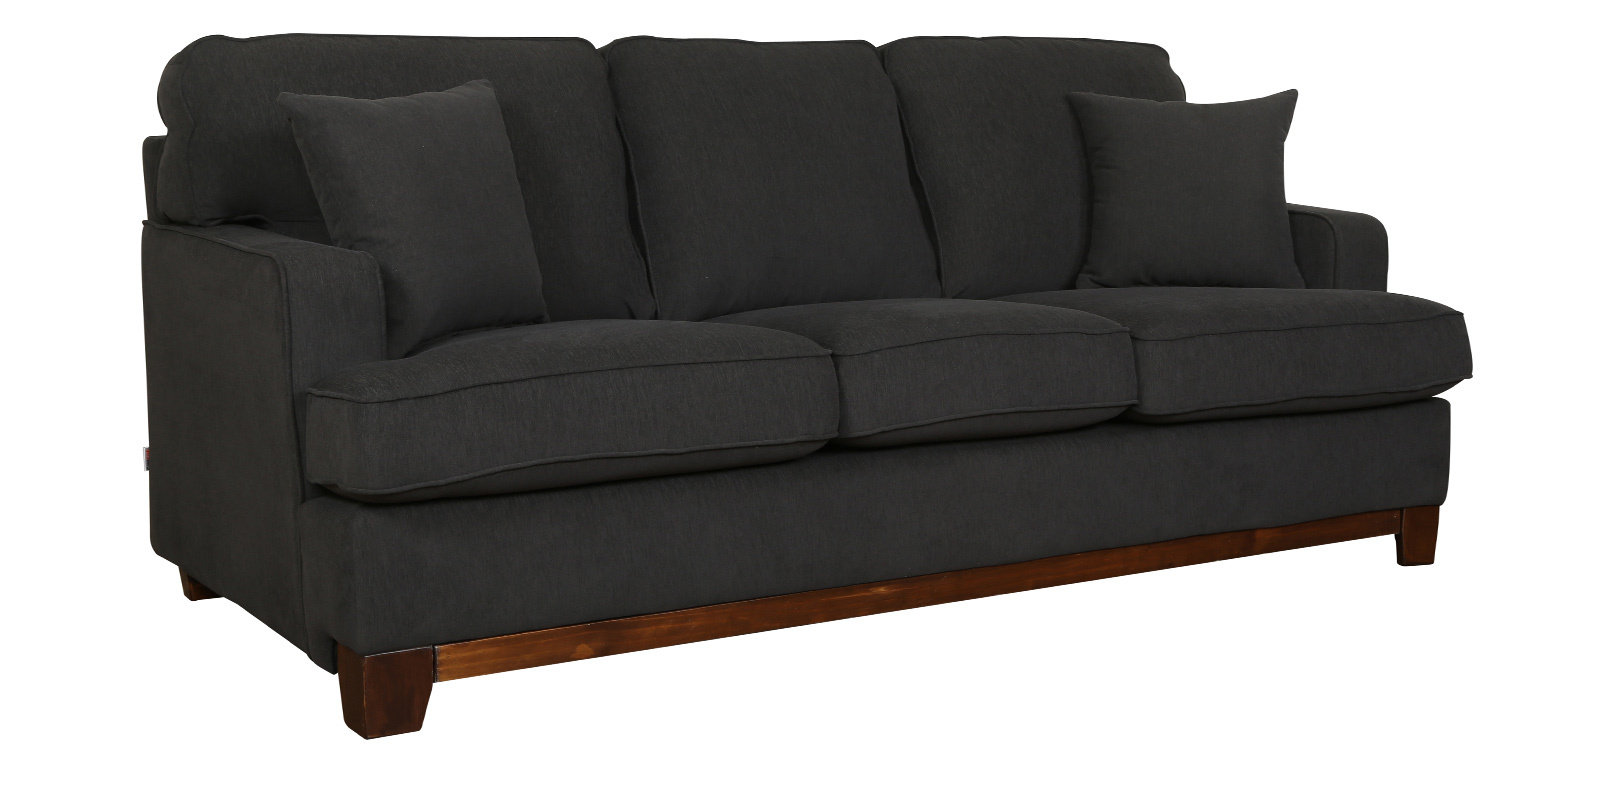Parana Three Seater Sofa in Charcoal Grey Color by CasaCraft: (134, 31, 1474, 739)
